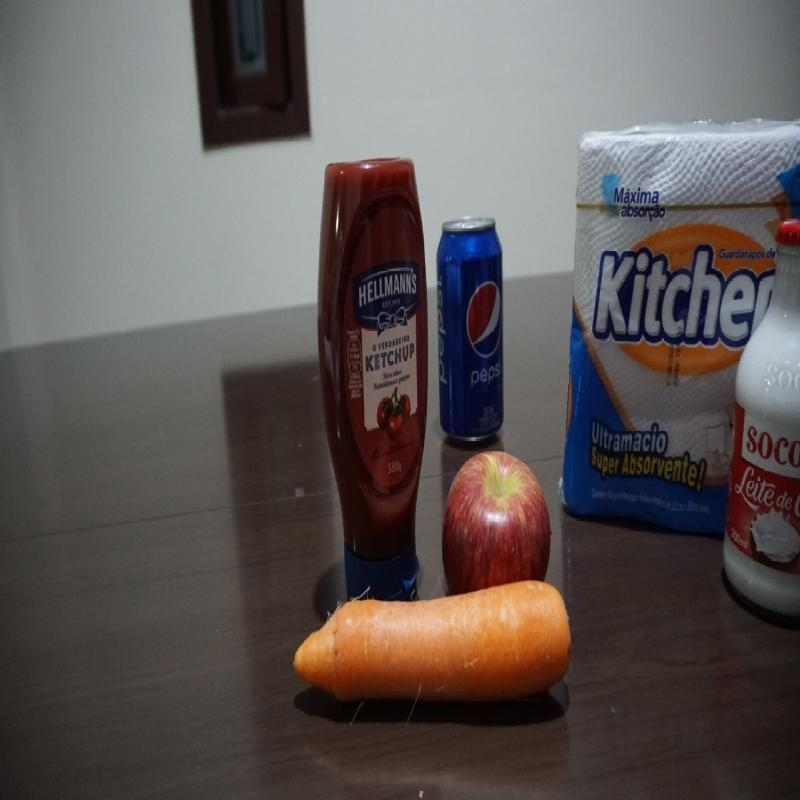Apple: (440, 448, 555, 594)
Carrot: (290, 582, 574, 706)
Coconut Milk: (719, 210, 800, 631)
Ketchup: (312, 153, 430, 615)
Napkin: (561, 117, 800, 550)
Soda can: (435, 212, 506, 446)
